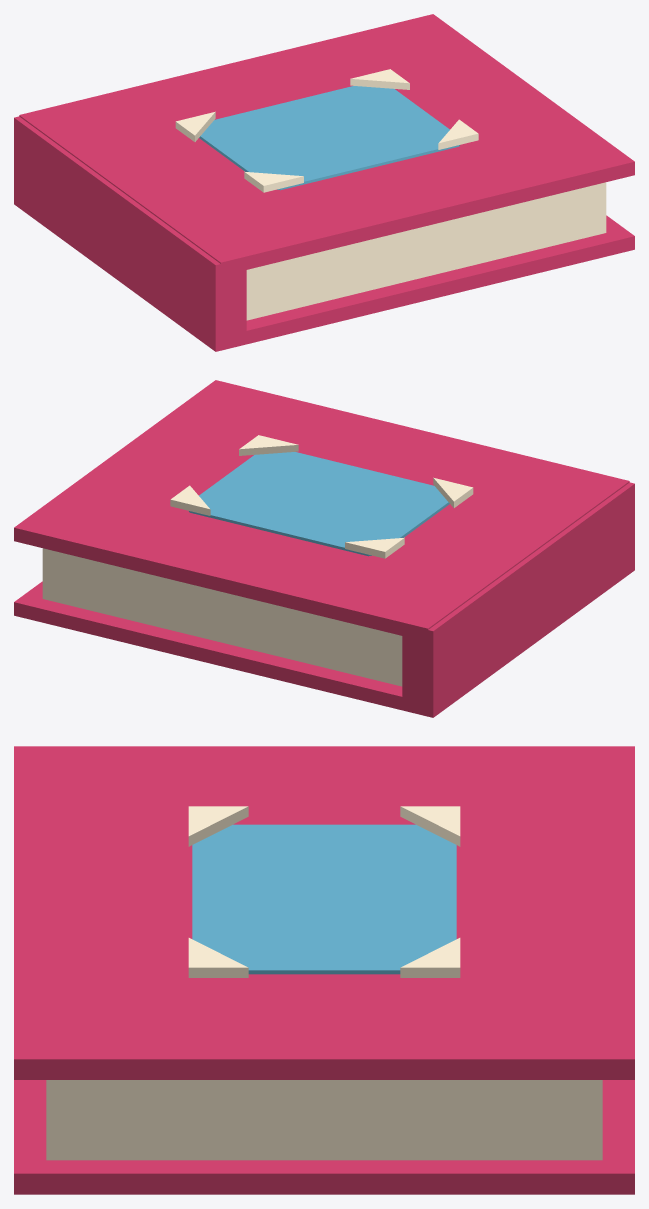
Rendered from 13-photo-album.glb.
3 renders of one model, top to bottom at view 1: azimuth 30°, elevation 25°; view 2: azimuth 150°, elevation 25°; view 3: azimuth 270°, elevation 25°, orthographic. The views are drawn at different scales.
Visible parts, largest first — view 1: 13-photo-album__Cover_1, 13-photo-album__Spine, 13-photo-album__Pages, 13-photo-album__BlankCoverPhoto, 13-photo-album__Cover_0, 13-photo-album__PhotoCorner_0, 13-photo-album__PhotoCorner_3, 13-photo-album__PhotoCorner_1, 13-photo-album__PhotoCorner_2; view 2: 13-photo-album__Cover_1, 13-photo-album__Spine, 13-photo-album__Pages, 13-photo-album__BlankCoverPhoto, 13-photo-album__Cover_0, 13-photo-album__PhotoCorner_2, 13-photo-album__PhotoCorner_1, 13-photo-album__PhotoCorner_3, 13-photo-album__PhotoCorner_0; view 3: 13-photo-album__Cover_1, 13-photo-album__Pages, 13-photo-album__BlankCoverPhoto, 13-photo-album__Cover_0, 13-photo-album__PhotoCorner_0, 13-photo-album__PhotoCorner_2, 13-photo-album__PhotoCorner_1, 13-photo-album__PhotoCorner_3, 13-photo-album__Spine.
Part boxes in pixels (left/top/right/bottom): 13-photo-album__Cover_1: left=19, top=14, right=634, bottom=275; 13-photo-album__Spine: left=14, top=116, right=246, bottom=351; 13-photo-album__Pages: left=246, top=182, right=606, bottom=320; 13-photo-album__BlankCoverPhoto: left=199, top=86, right=459, bottom=190; 13-photo-album__Cover_0: left=221, top=215, right=634, bottom=350; 13-photo-album__PhotoCorner_0: left=244, top=171, right=303, bottom=192; 13-photo-album__PhotoCorner_3: left=350, top=69, right=409, bottom=89; 13-photo-album__PhotoCorner_1: left=438, top=119, right=478, bottom=149; 13-photo-album__PhotoCorner_2: left=175, top=111, right=215, bottom=141; 13-photo-album__Cover_1: left=14, top=380, right=629, bottom=641; 13-photo-album__Spine: left=402, top=482, right=634, bottom=717; 13-photo-album__Pages: left=42, top=548, right=402, bottom=686; 13-photo-album__BlankCoverPhoto: left=189, top=452, right=449, bottom=556; 13-photo-album__Cover_0: left=14, top=581, right=427, bottom=716; 13-photo-album__PhotoCorner_2: left=345, top=537, right=404, bottom=558; 13-photo-album__PhotoCorner_1: left=239, top=435, right=298, bottom=455; 13-photo-album__PhotoCorner_3: left=170, top=485, right=210, bottom=515; 13-photo-album__PhotoCorner_0: left=433, top=477, right=473, bottom=507; 13-photo-album__Cover_1: left=14, top=748, right=634, bottom=1079; 13-photo-album__Pages: left=46, top=1080, right=602, bottom=1160; 13-photo-album__BlankCoverPhoto: left=192, top=824, right=456, bottom=974; 13-photo-album__Cover_0: left=14, top=1080, right=634, bottom=1194; 13-photo-album__PhotoCorner_0: left=188, top=806, right=248, bottom=846; 13-photo-album__PhotoCorner_2: left=400, top=806, right=460, bottom=846; 13-photo-album__PhotoCorner_1: left=188, top=938, right=248, bottom=977; 13-photo-album__PhotoCorner_3: left=400, top=938, right=460, bottom=977; 13-photo-album__Spine: left=14, top=746, right=634, bottom=747.
Bounding box in the file's own units: 0.324 × 0.073 × 0.27.
